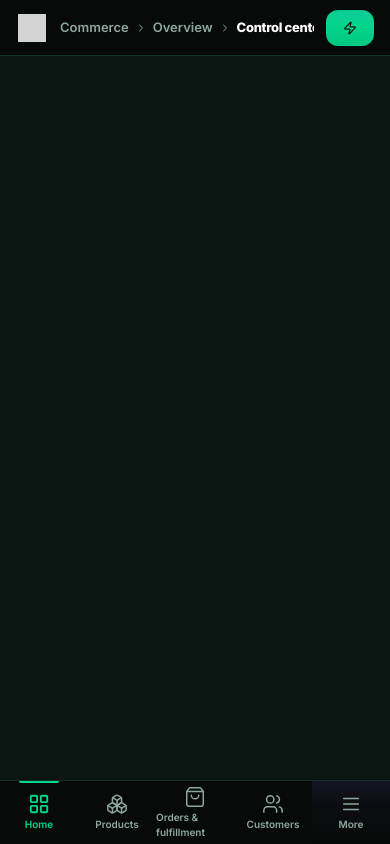
both builds render the same navigation › heads the CRM as its own section rather than mixing it into commerce
This screenshot has width=390, height=844.
Click the button with aria-label "More options". click: (351, 812)
box: [312, 781, 389, 843]
(page scrolled)
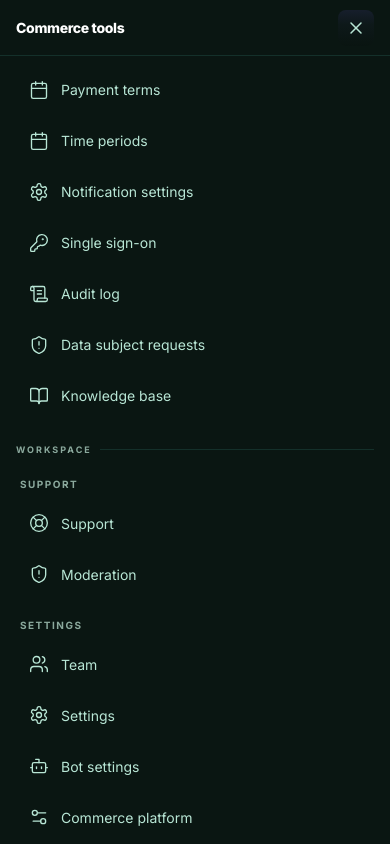
Expected: the text "Workspace" is shown, [16, 443, 92, 456]
